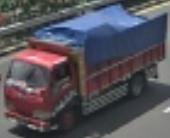truck: (1, 47, 84, 135)
